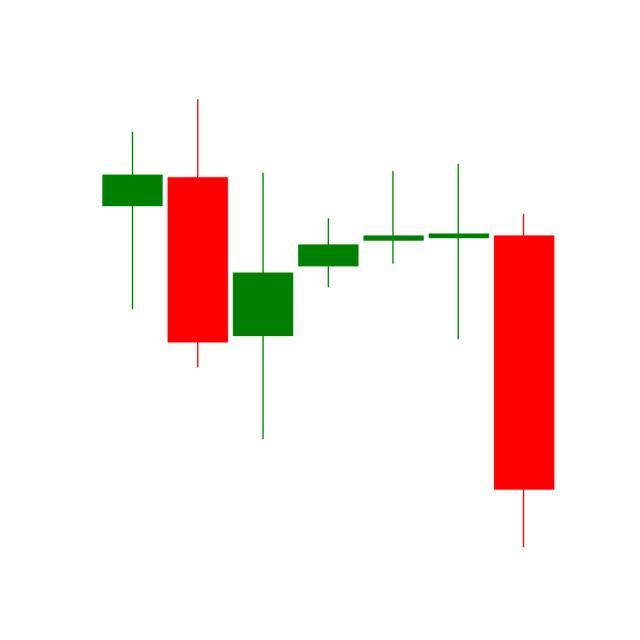Hikkake Pattern: (229, 160, 555, 548)
